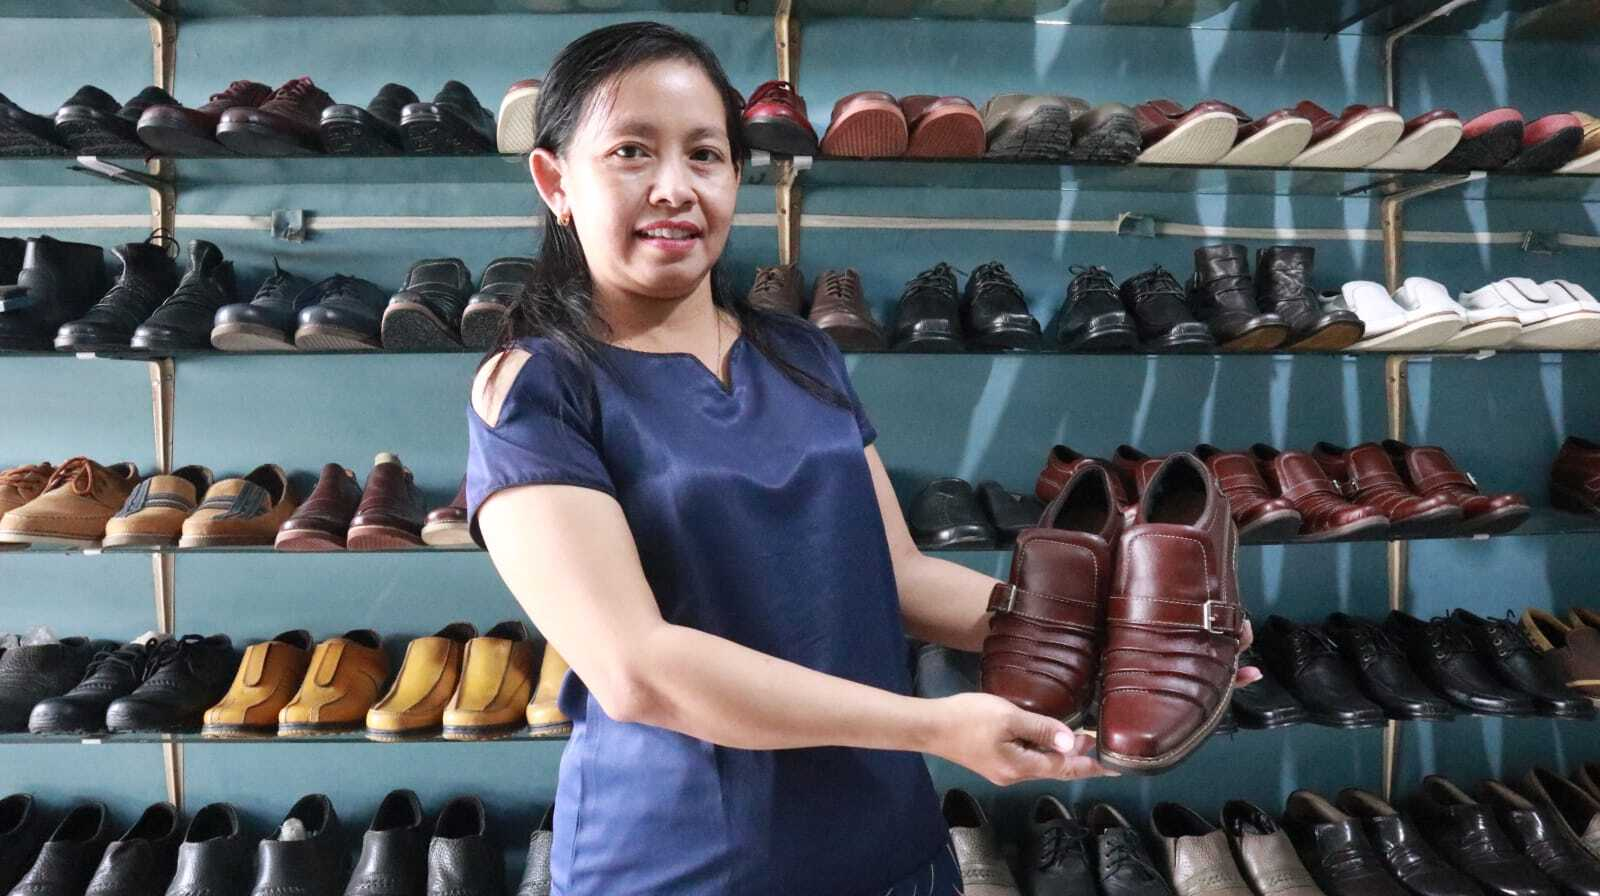sepatu: (987, 434, 1258, 787), (884, 231, 1370, 368), (48, 617, 557, 748)
